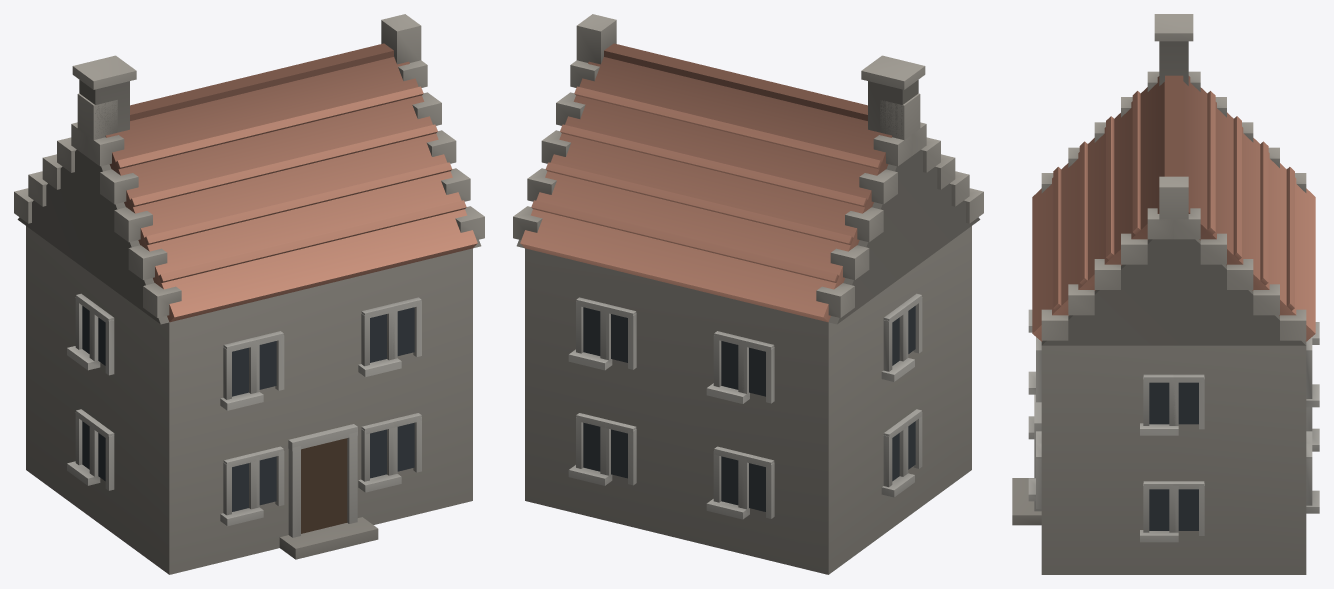
Rendered from house_medieval_3.glb.
The picture shows the model from 3 angles, left to right: view 1: azimuth 30°, elevation 25°; view 2: azimuth 150°, elevation 25°; view 3: azimuth 270°, elevation 25°; orthographic projection. The views are drawn at different scales.
Visible parts, largest first — view 1: Body_Detail, Body_Roof; view 2: Body_Detail, Body_Roof; view 3: Body_Detail, Body_Roof.
Boxes of the visible parts, left/top/right/bottom form: Body_Detail: left=14, top=14, right=484, bottom=574; Body_Roof: left=105, top=43, right=477, bottom=322; Body_Detail: left=513, top=14, right=983, bottom=574; Body_Roof: left=520, top=43, right=892, bottom=322; Body_Detail: left=1012, top=14, right=1319, bottom=574; Body_Roof: left=1032, top=75, right=1315, bottom=341.
Size of the model in its own units: 0.9585 by 1.26 by 0.836.
